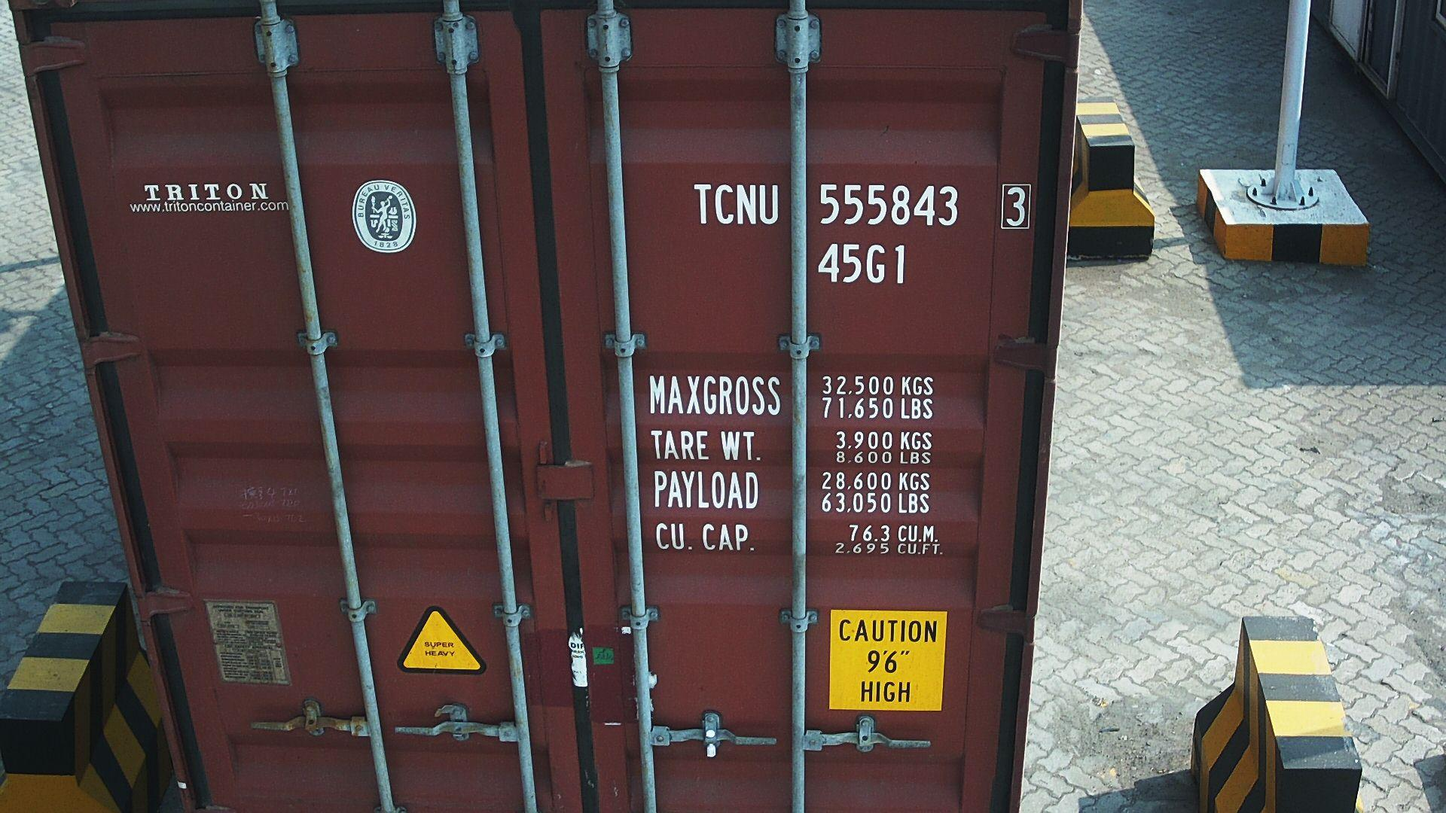container-numbers: (688, 178, 1036, 232), (812, 239, 912, 286)
